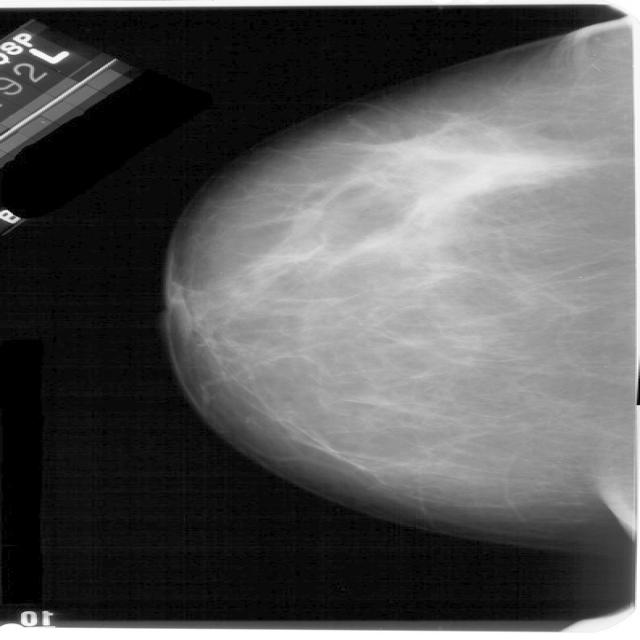tumour: (366, 133, 558, 205)
